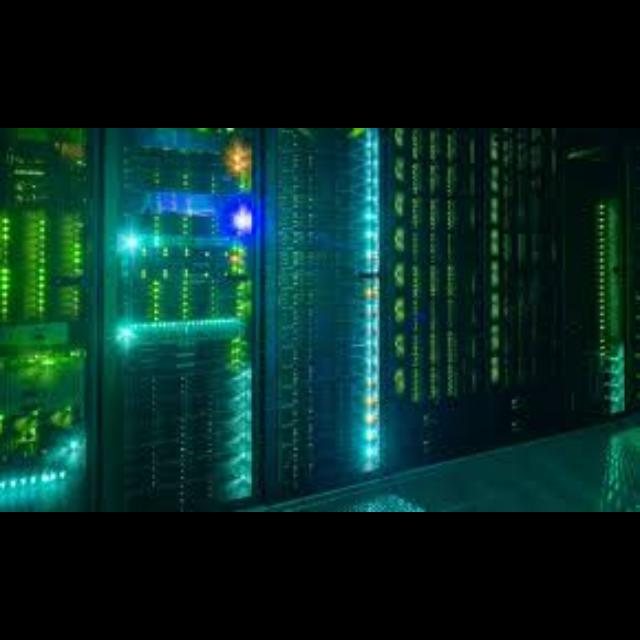Server: (365, 128, 481, 484)
